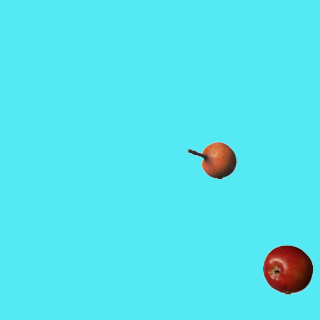Apple Braeburn: (262, 244, 312, 294)
Granadilla: (186, 135, 236, 185)
